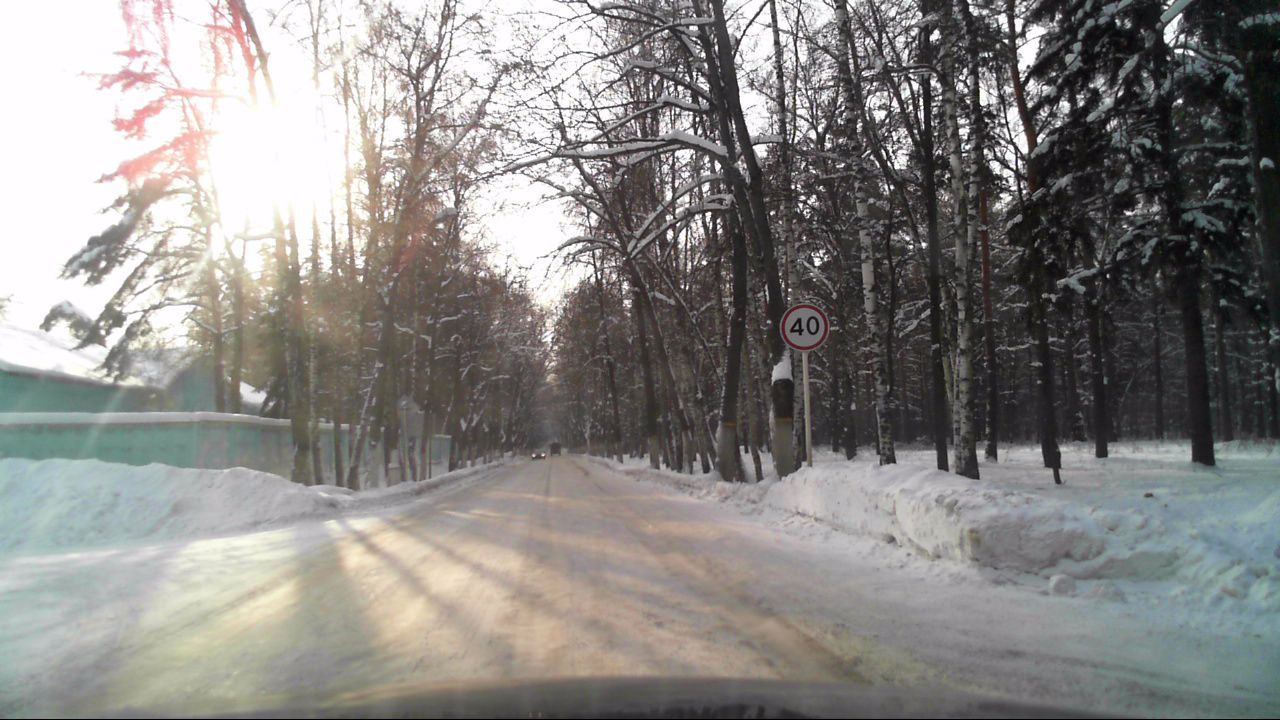speed_warning_40: (779, 303, 827, 350)
